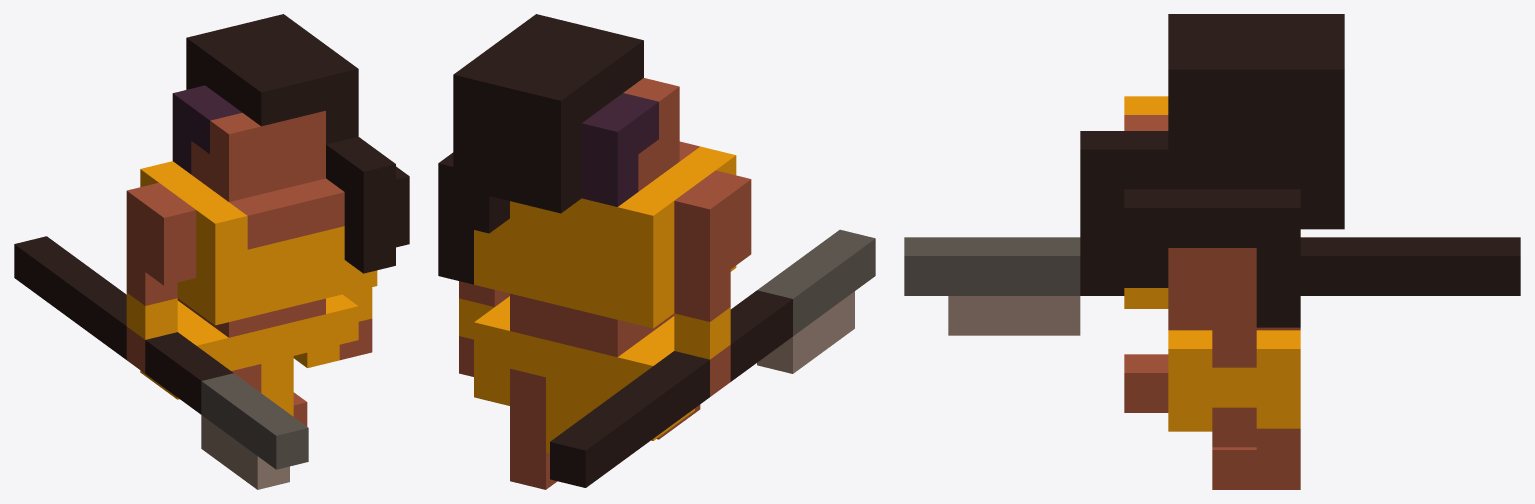
Rendered from amazon_walk_3.obj.
3 views of the same model, side by side, from view 1: azimuth 30°, elevation 25°; view 2: azimuth 150°, elevation 25°; view 3: azimuth 270°, elevation 25° (orthographic). The views are drawn at different scales.
Bounding box in the file's own units: 0.7 × 1.1 × 1.4.
1 material, 1 textured.
